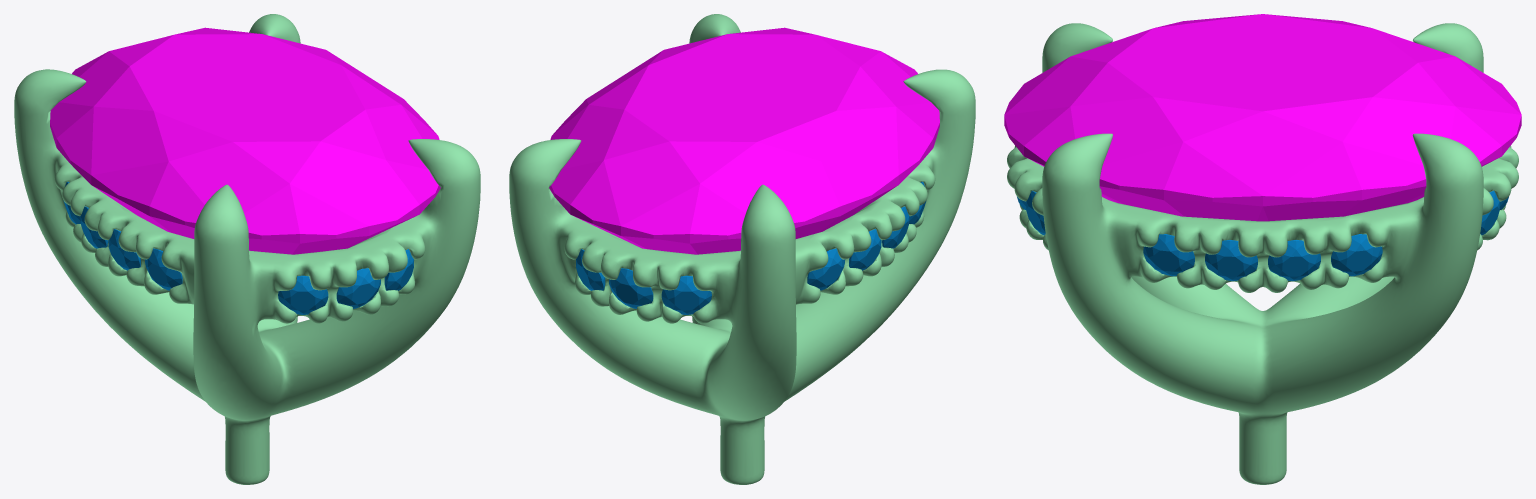
Rendered from Oval_diamond.glb.
3 views of the same model, side by side, from view 1: azimuth 30°, elevation 25°; view 2: azimuth 150°, elevation 25°; view 3: azimuth 270°, elevation 25° (orthographic). The views are drawn at different scales.
Visible parts, largest first — view 1: Metal 02, CS_Diamond_Oval, Diamond_Round_Gem_HD, Diamond_Round_Gem_HD.001, Diamond_Round_Gem_HD.010, Diamond_Round_Gem_HD.009, Diamond_Round_Gem_HD.002; view 2: Metal 02, CS_Diamond_Oval, Diamond_Round_Gem_HD.013, Diamond_Round_Gem_HD.012, Diamond_Round_Gem_HD.007, Diamond_Round_Gem_HD.008, Diamond_Round_Gem_HD.011; view 3: Metal 02, CS_Diamond_Oval, Diamond_Round_Gem_HD.004, Diamond_Round_Gem_HD.005, Diamond_Round_Gem_HD.003, Diamond_Round_Gem_HD.006.
Boxes of the visible parts, <box> form: Metal 02: <box>14,14,480,484</box>; CS_Diamond_Oval: <box>50,27,440,254</box>; Diamond_Round_Gem_HD: <box>278,275,328,314</box>; Diamond_Round_Gem_HD.001: <box>336,268,380,308</box>; Diamond_Round_Gem_HD.010: <box>145,248,182,290</box>; Diamond_Round_Gem_HD.009: <box>108,229,140,270</box>; Diamond_Round_Gem_HD.002: <box>384,249,413,290</box>; Metal 02: <box>509,14,975,484</box>; CS_Diamond_Oval: <box>549,27,939,254</box>; Diamond_Round_Gem_HD.013: <box>661,275,711,314</box>; Diamond_Round_Gem_HD.012: <box>609,268,653,308</box>; Diamond_Round_Gem_HD.007: <box>807,248,845,290</box>; Diamond_Round_Gem_HD.008: <box>849,229,881,270</box>; Diamond_Round_Gem_HD.011: <box>576,249,605,290</box>; Metal 02: <box>1007,23,1518,484</box>; CS_Diamond_Oval: <box>1004,14,1521,221</box>; Diamond_Round_Gem_HD.004: <box>1205,240,1257,280</box>; Diamond_Round_Gem_HD.005: <box>1268,240,1320,280</box>; Diamond_Round_Gem_HD.003: <box>1143,234,1194,276</box>; Diamond_Round_Gem_HD.006: <box>1331,234,1382,276</box>.
Size of the model in its own units: 5.75 by 6.86 by 7.75.
